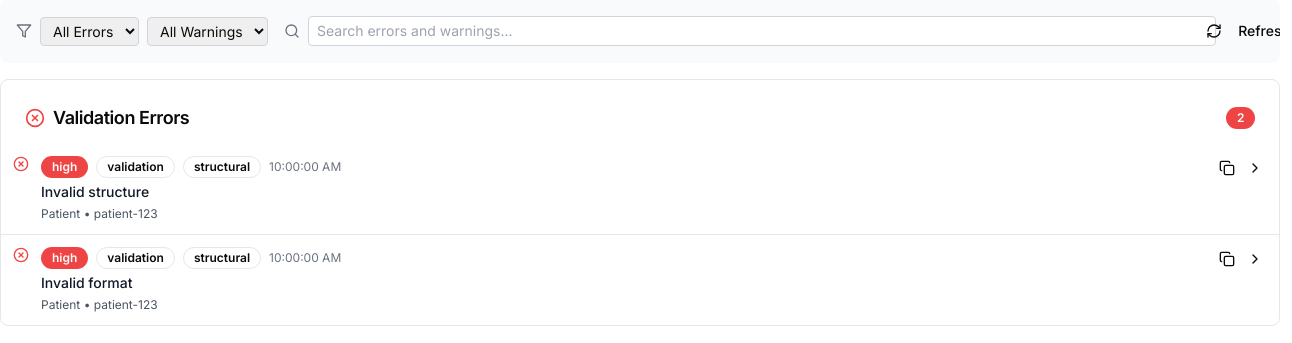
ValidationErrorWarningDisplay › Error Filtering › filters errors by search term
This screenshot has width=1292, height=343.
// Search for "structure"
Type "structure" into the field with placeholder "Search errors and warnings...". click: (762, 31)
box: 308,16 -> 1216,46
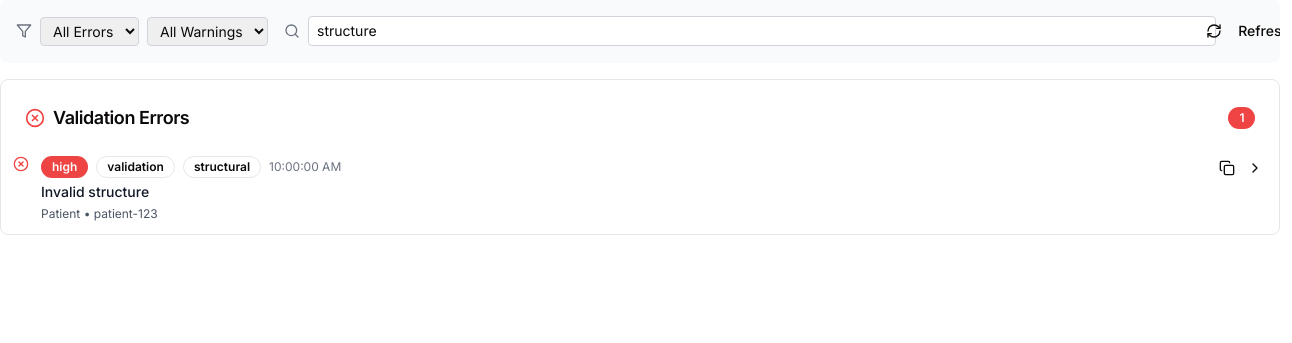
Expected: the text "Invalid structure" is shown, 41,183 -> 149,200
Expected: the text "Invalid format" is gone
